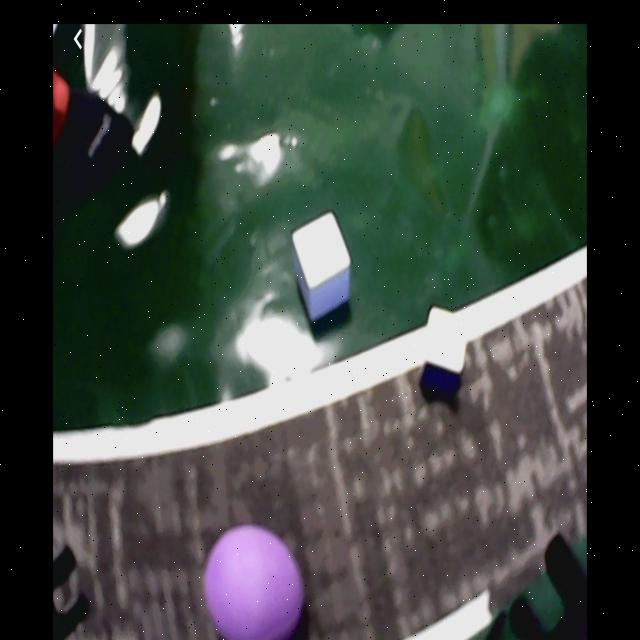ball: (207, 526, 304, 640)
